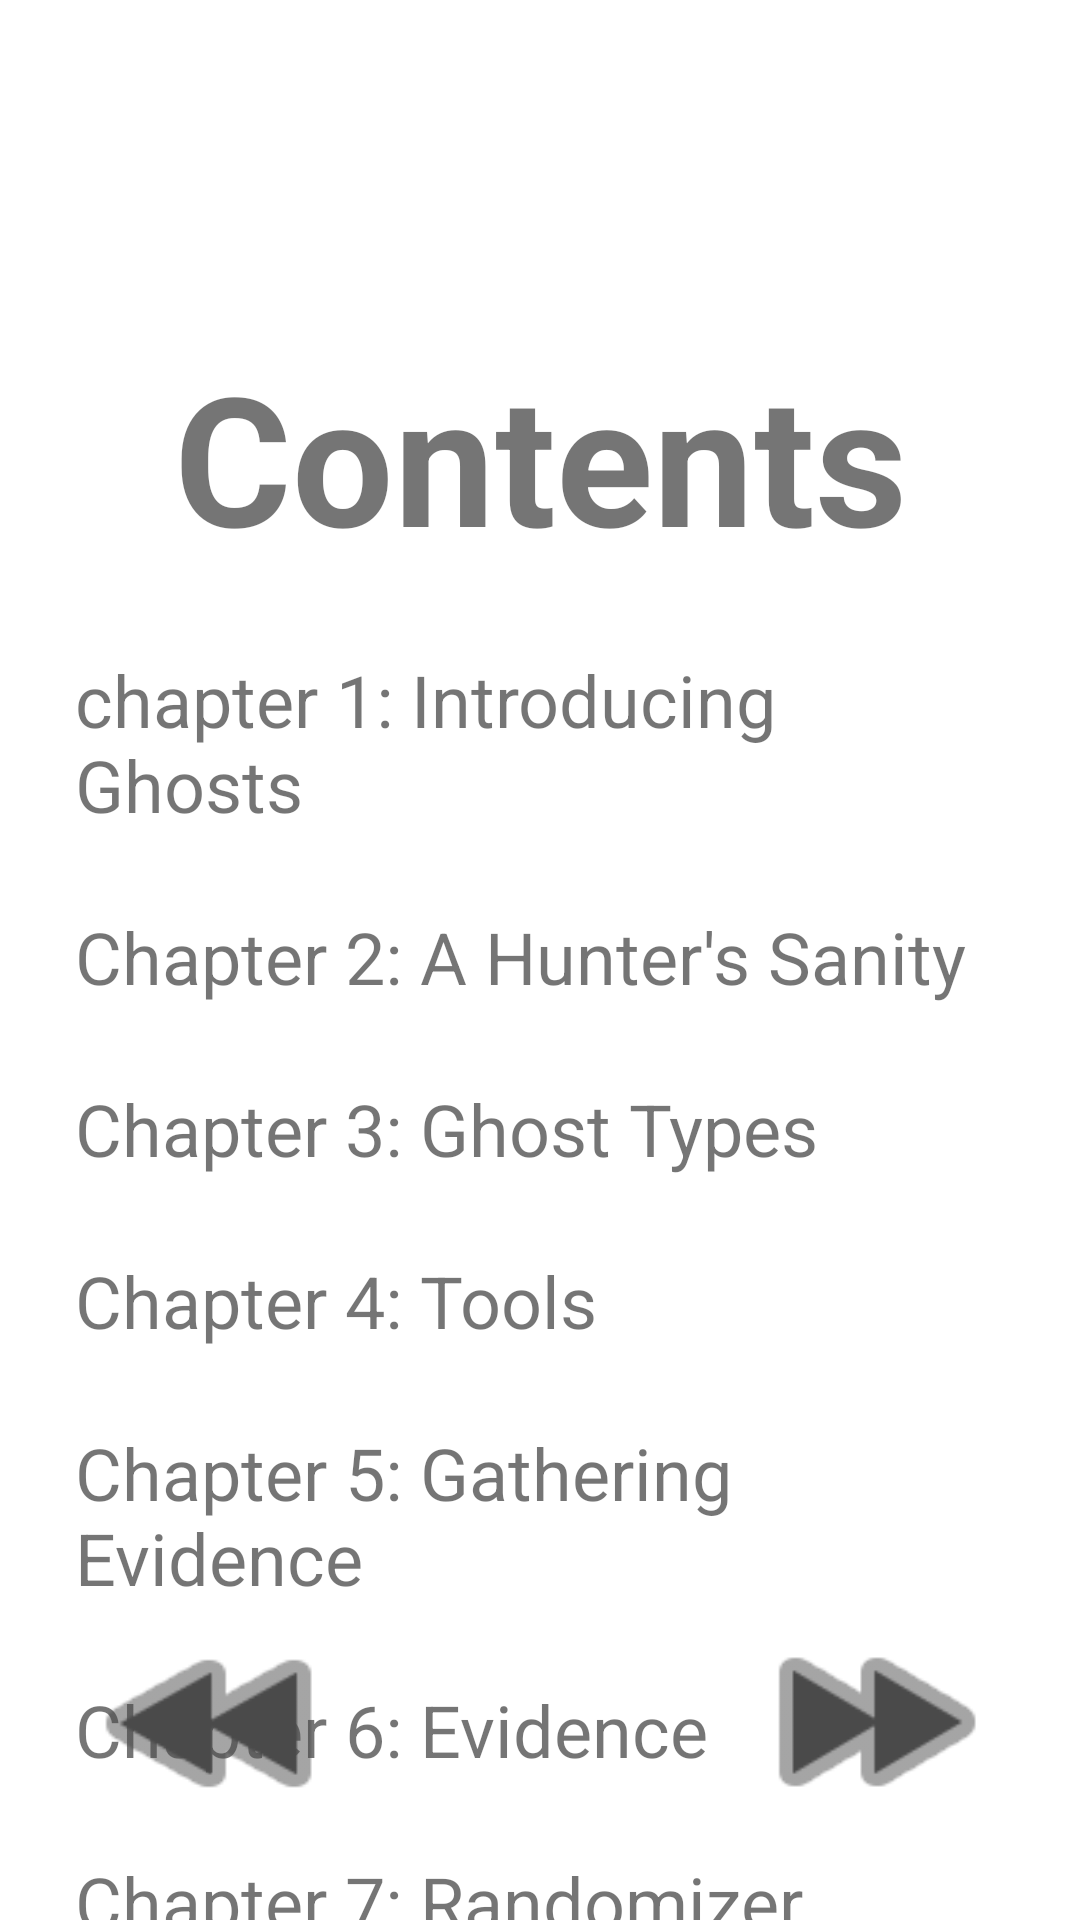

Locate icon controls on the screen. Image size 1080px×1920px, boxes as (x1, y1, x2, y2).
rew: (79, 1660, 327, 1787)
